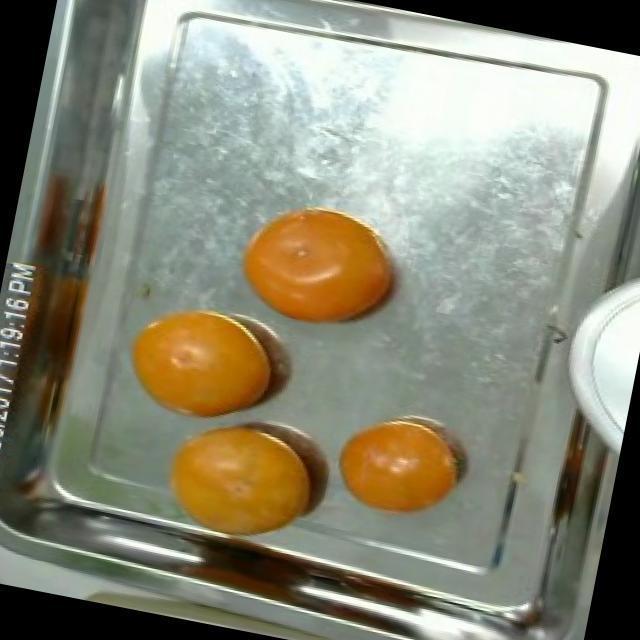Fruit: (218, 187, 416, 350), (142, 402, 336, 555), (105, 289, 297, 443), (316, 395, 482, 537)
